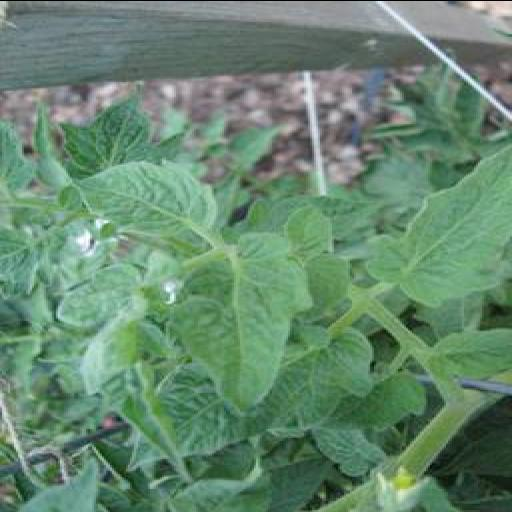Healthy: (168, 228, 316, 420), (76, 159, 232, 243)
